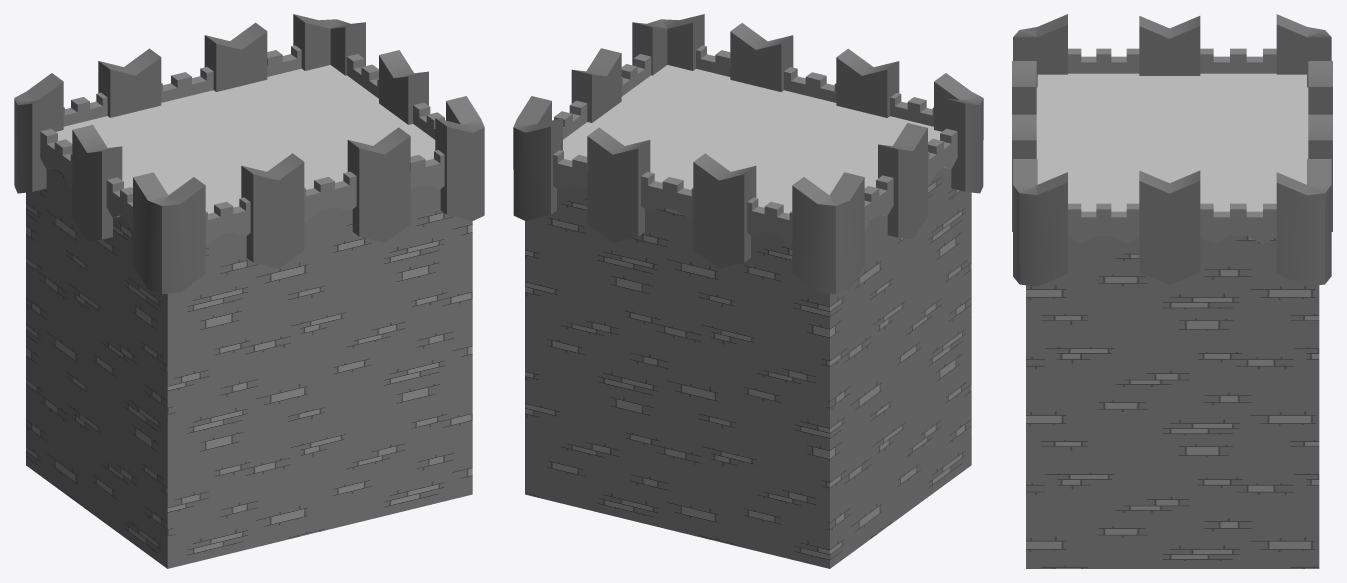
Rendered from Castle_Part_10.fbx.
3 renders of one model, left to right at view 1: azimuth 30°, elevation 25°; view 2: azimuth 150°, elevation 25°; view 3: azimuth 270°, elevation 25°, orthographic. The views are drawn at different scales.
Visible parts, largest first — view 1: pCube2670; view 2: pCube2670; view 3: pCube2670.
Boxes of the visible parts, x1=… form: pCube2670: x1=14, y1=14, x2=484, y2=568; pCube2670: x1=513, y1=14, x2=983, y2=568; pCube2670: x1=1012, y1=14, x2=1332, y2=568.
Bounding box in the file's own units: 14.13 × 15.39 × 11.37.
